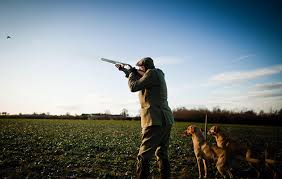Gun: (101, 56, 133, 70)
